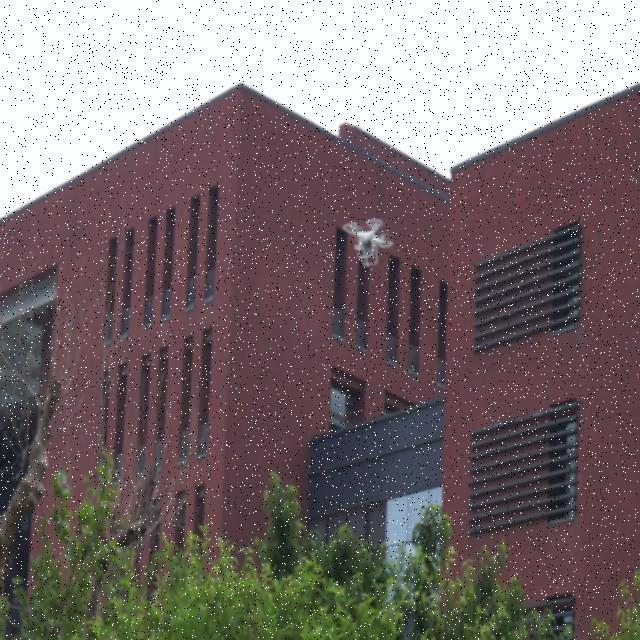UAV: (342, 218, 394, 267)
